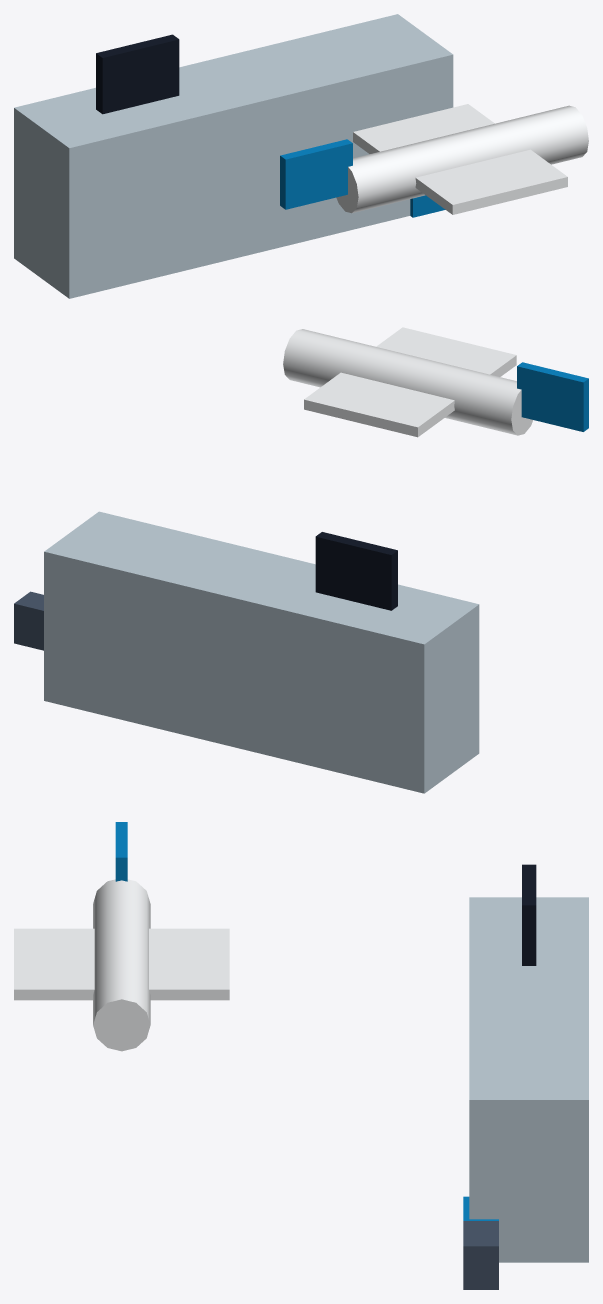
The model's file is airport.glb.
3 renders of one model, top to bottom at view 1: azimuth 30°, elevation 25°; view 2: azimuth 150°, elevation 25°; view 3: azimuth 270°, elevation 25°, orthographic. The views are drawn at different scales.
Size of what is drawn, in the model's own units: 2.38 by 1.23 by 2.4.
